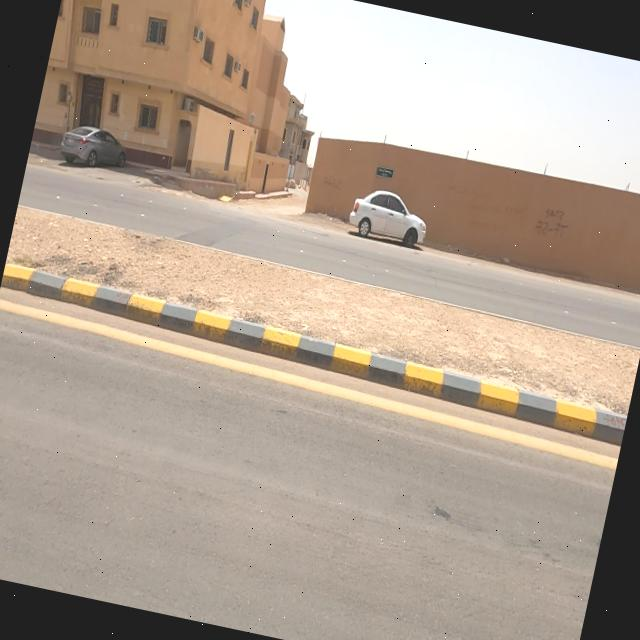Graffiti: (534, 204, 572, 244), (322, 172, 346, 191)
